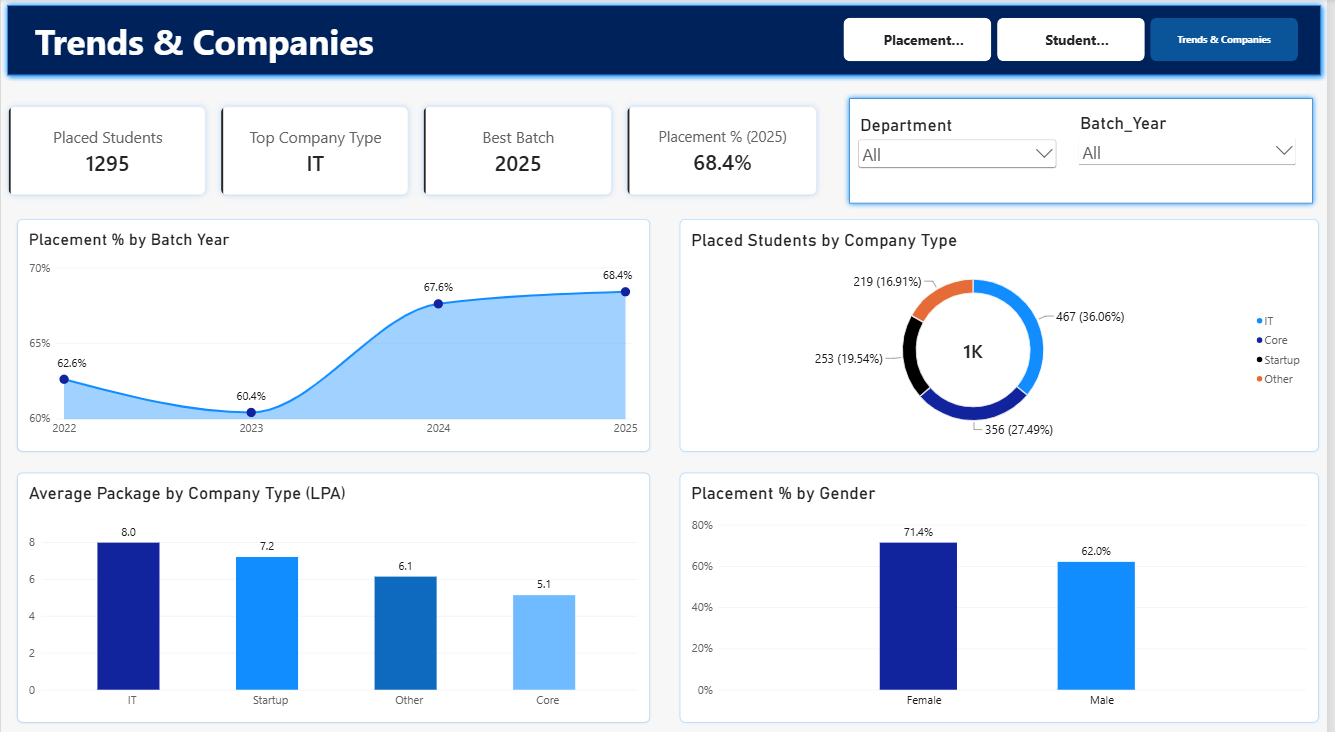

Layout of this report page (visuals, bound fields, positions):
{"tool":"powerbi","page":{"name":"Trends & Companies","canvas":[1920,1080],"ordinal":2},"visuals":[{"type":"shape","box":[0,0,1920.1,119.4],"z":0},{"type":"pageNavigator","box":[1219.7,27.1,660.5,63.3],"z":1000},{"type":"shape","box":[1219.7,135.7,687.7,168.3],"z":2000},{"type":"slicer","fields":{"Values":["university_placement_data (1).Department"]},"box":[1236,168.3,296.8,105],"z":3000},{"type":"slicer","fields":{"Values":["university_placement_data (1).Batch_Year"]},"box":[1555.4,164.3,325.7,112.2],"z":4000},{"type":"cardVisual","fields":{"Data":["Sum(university_placement_data (1).Placed_Flag)"]},"box":[0,144.8,307.6,150.2],"z":5000},{"type":"cardVisual","fields":{"Data":["Min(university_placement_data (1).Company_Type)"]},"box":[307.6,144.8,293.2,150.2],"z":6000},{"type":"cardVisual","fields":{"Data":["Max(university_placement_data (1).Batch_Year)"]},"box":[600.8,144.8,295,150.2],"z":7000},{"type":"cardVisual","fields":{"Data":["Avg(university_placement_data (1).Placed_Flag)"]},"box":[895.8,144.8,296.8,150.2],"z":8000},{"type":"lineChart","title":"Placement % by Batch Year","fields":{"Category":["university_placement_data (1).Batch_Year"],"Y":["Avg(university_placement_data (1).Placed_Flag)"]},"box":[23.5,318.5,915.7,336.6],"z":9000},{"type":"donutChart","title":"Placed Students by Company Type","fields":{"Category":["university_placement_data (1).Company_Type"],"Y":["Sum(university_placement_data (1).Placed_Flag)"]},"box":[982.6,318.5,924.7,336.6],"z":10000},{"type":"clusteredColumnChart","title":"Average Package by Company Type (LPA)","fields":{"Category":["university_placement_data (1).Company_Type"],"Y":["Avg(university_placement_data (1).Package_LPA)"]},"box":[23.5,685.9,915.7,361.9],"z":11000},{"type":"clusteredColumnChart","title":"Placement % by Gender","fields":{"Category":["university_placement_data (1).Gender"],"Y":["Avg(university_placement_data (1).Placed_Flag)"]},"box":[982.6,685.9,924.7,361.9],"z":12000}]}

Visuals, with their boxes in screenshot pixels (x1, y1, x2, y2), scaled from the page's 1920x1080 canvas onto the 1335x732 screenshot:
shape: [left=0, top=0, right=1334, bottom=81]
pageNavigator: [left=848, top=18, right=1307, bottom=61]
shape: [left=848, top=92, right=1326, bottom=206]
slicer - university_placement_data (1).Department: [left=859, top=114, right=1066, bottom=185]
slicer - university_placement_data (1).Batch_Year: [left=1081, top=111, right=1308, bottom=187]
cardVisual - Sum(university_placement_data (1).Placed_Flag): [left=0, top=98, right=214, bottom=200]
cardVisual - Min(university_placement_data (1).Company_Type): [left=214, top=98, right=418, bottom=200]
cardVisual - Max(university_placement_data (1).Batch_Year): [left=418, top=98, right=623, bottom=200]
cardVisual - Avg(university_placement_data (1).Placed_Flag): [left=623, top=98, right=829, bottom=200]
"Placement % by Batch Year" lineChart: [left=16, top=216, right=653, bottom=444]
"Placed Students by Company Type" donutChart: [left=683, top=216, right=1326, bottom=444]
"Average Package by Company Type (LPA)" clusteredColumnChart: [left=16, top=465, right=653, bottom=710]
"Placement % by Gender" clusteredColumnChart: [left=683, top=465, right=1326, bottom=710]
